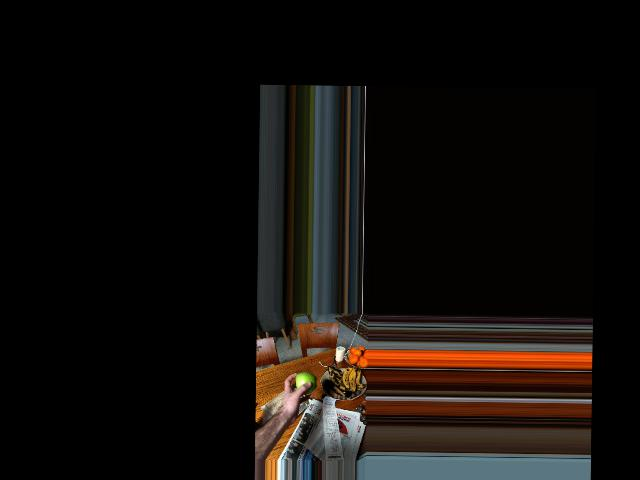apple: (295, 372, 317, 394)
